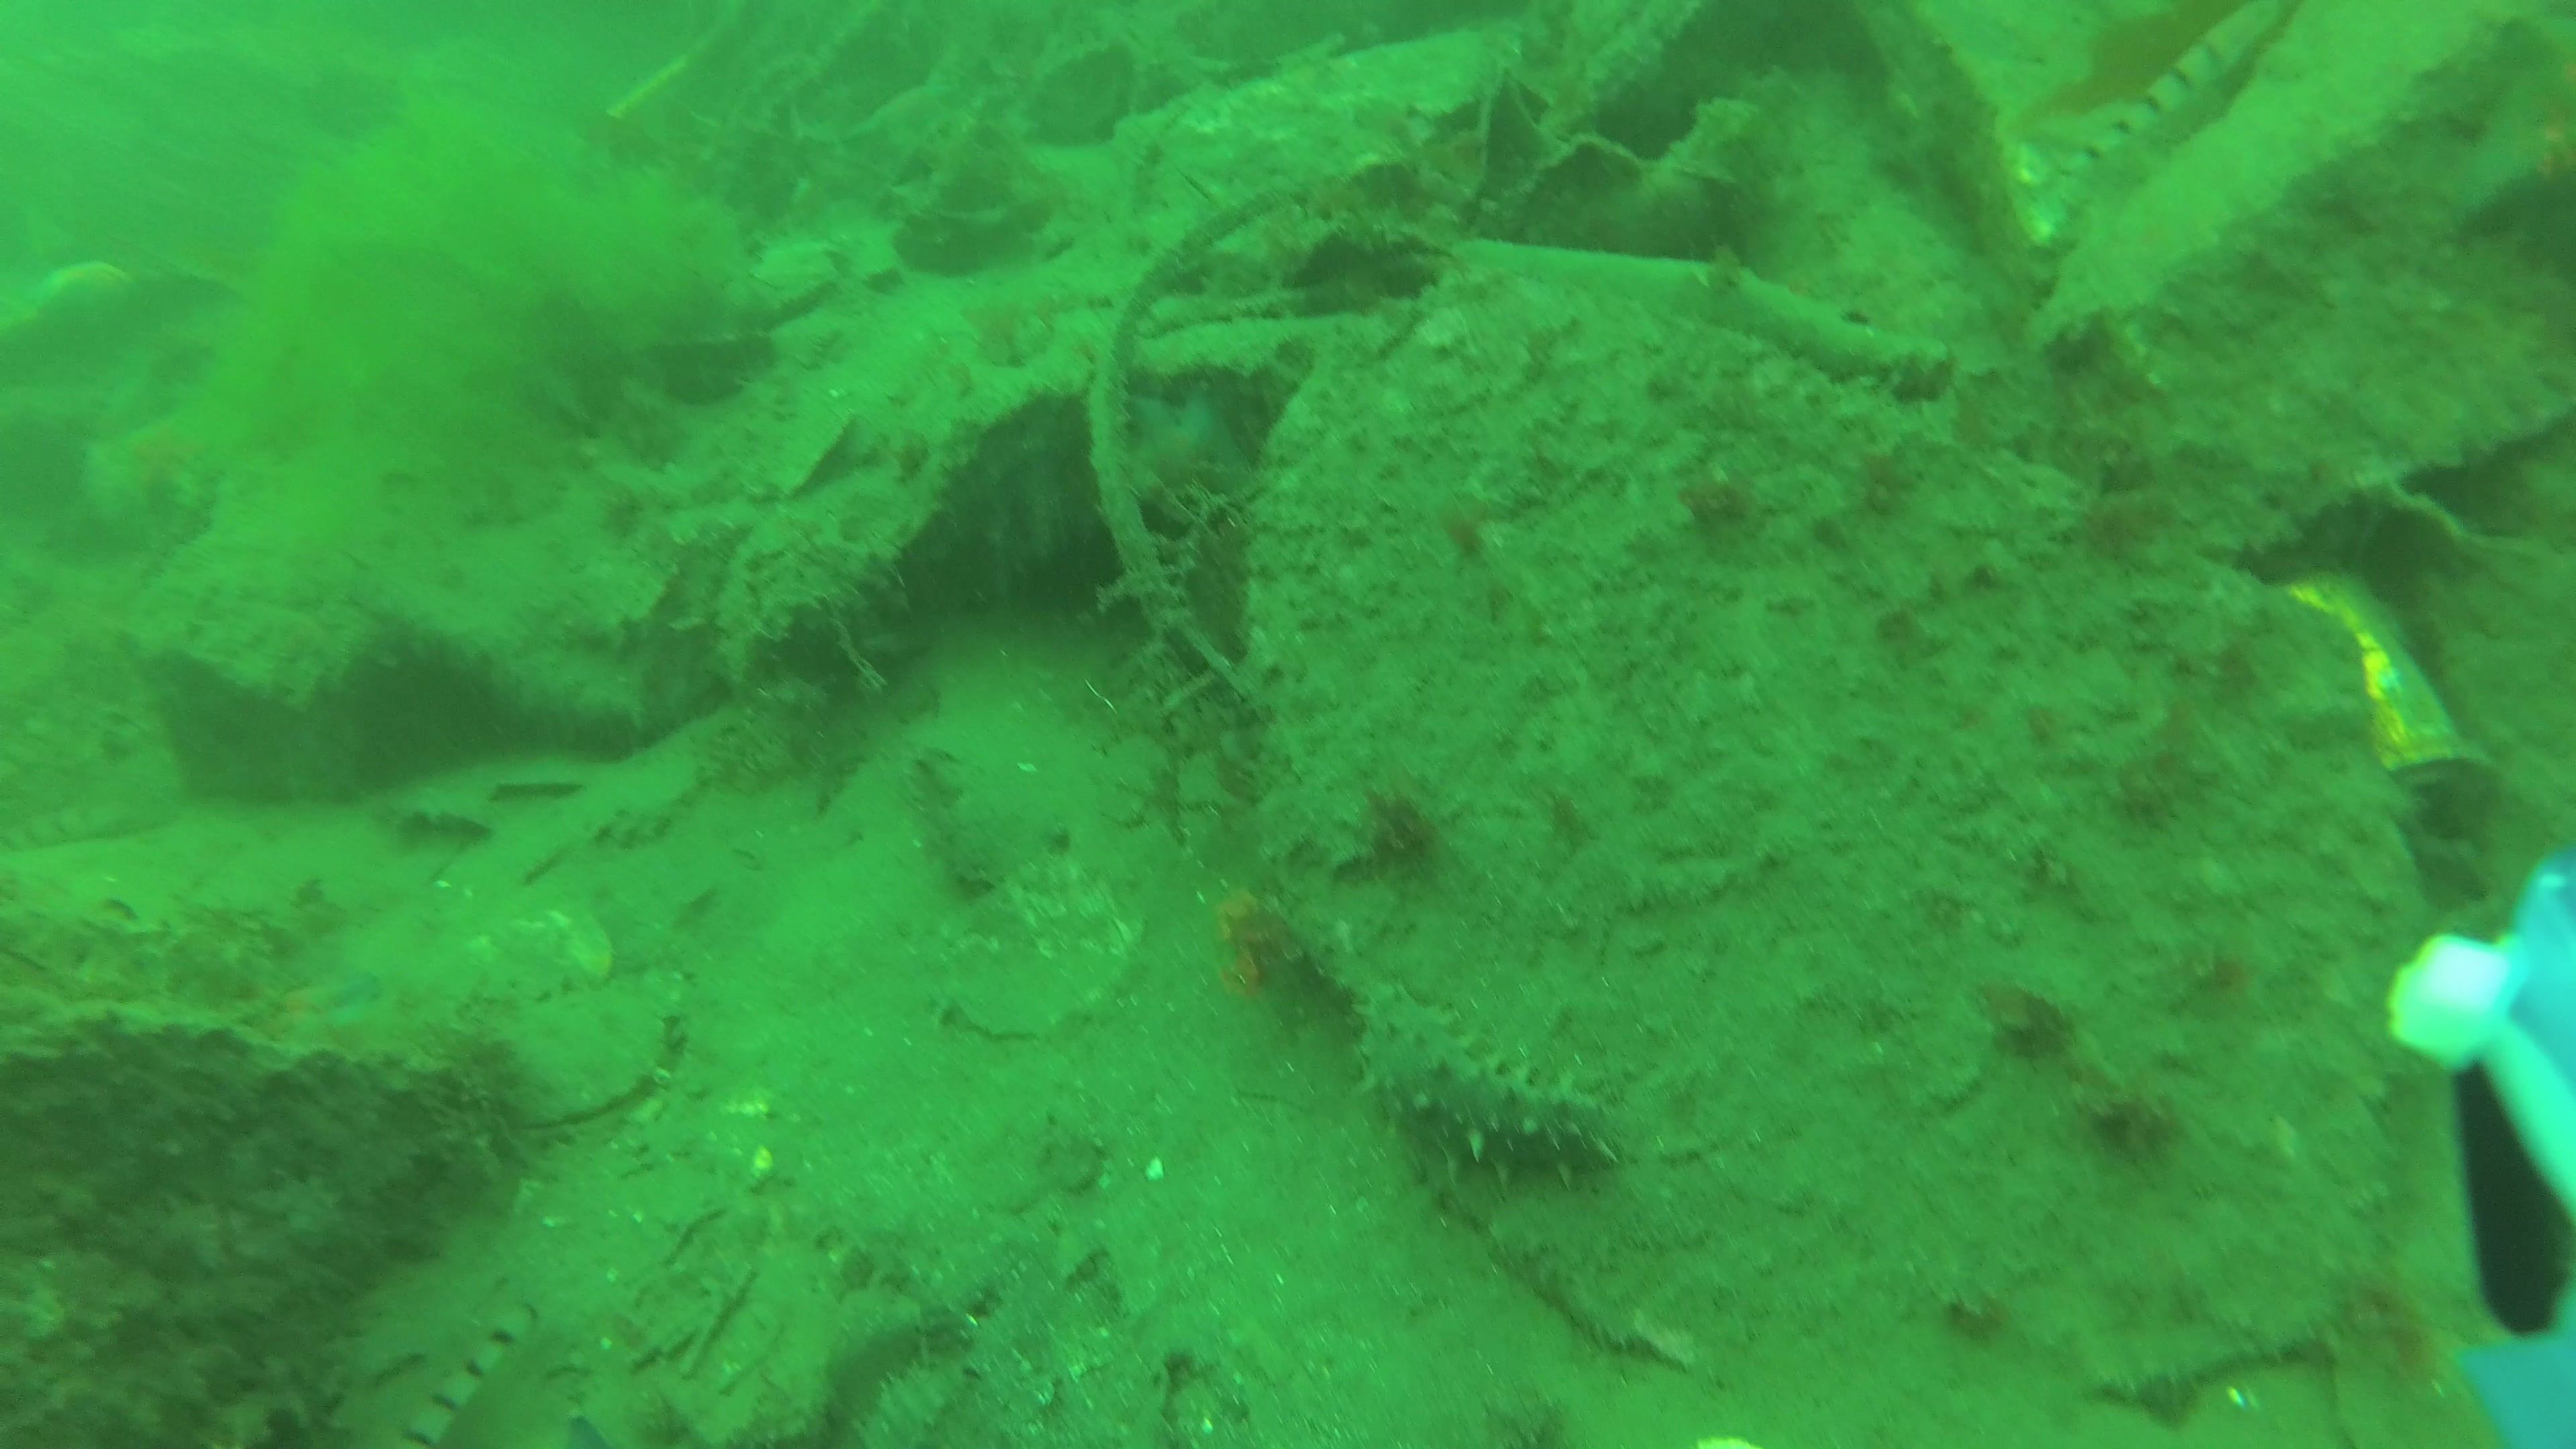holothurian: (1353, 978, 1631, 1191)
scallop: (945, 862, 1138, 1035), (506, 975, 667, 1120), (469, 904, 614, 1008)
starfish: (1145, 387, 1249, 517), (253, 978, 368, 1063)
